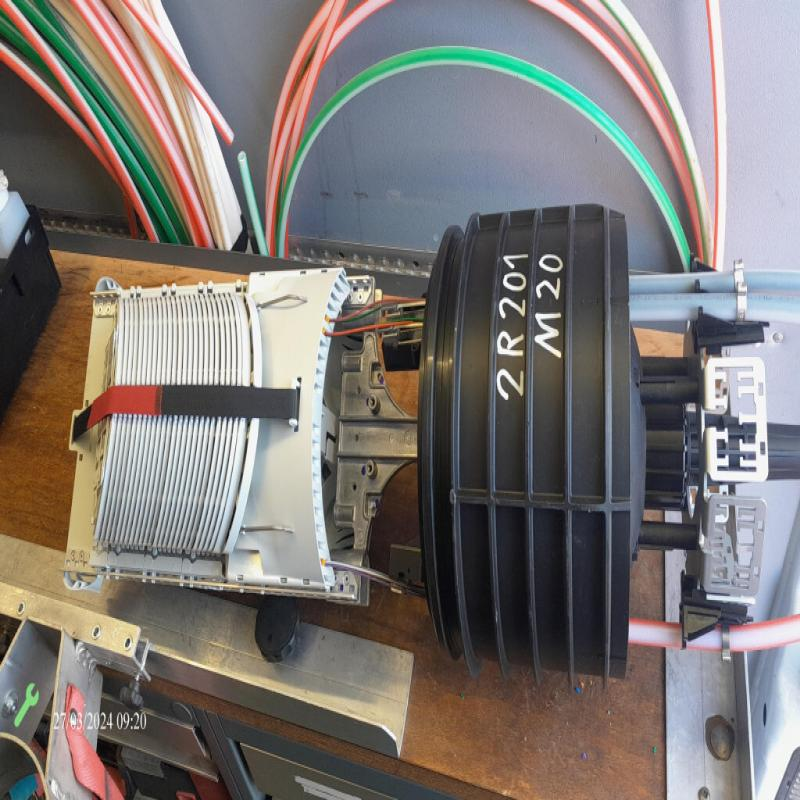NT-Muffen: (63, 197, 776, 691)
